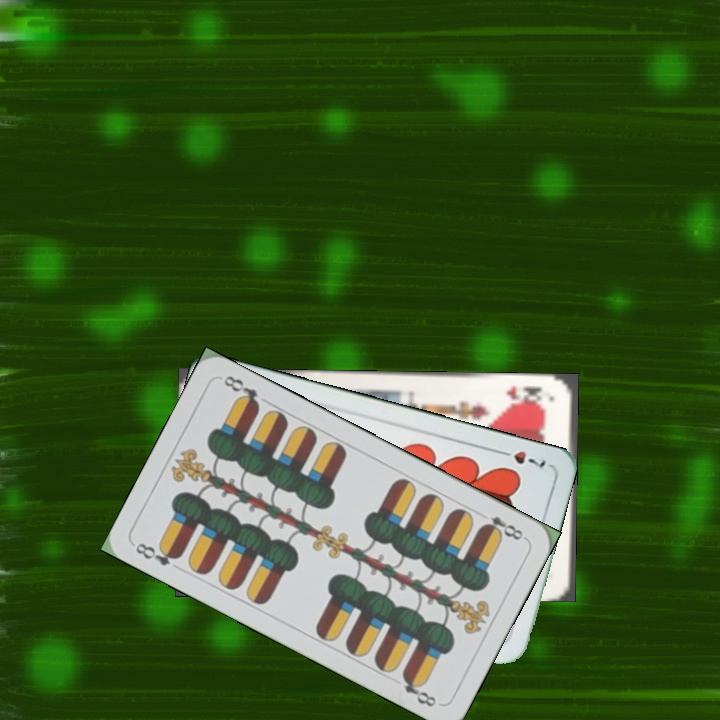E8: (477, 511, 529, 543), (131, 538, 184, 569)
H7: (493, 445, 549, 472)
HK: (503, 381, 545, 407)
